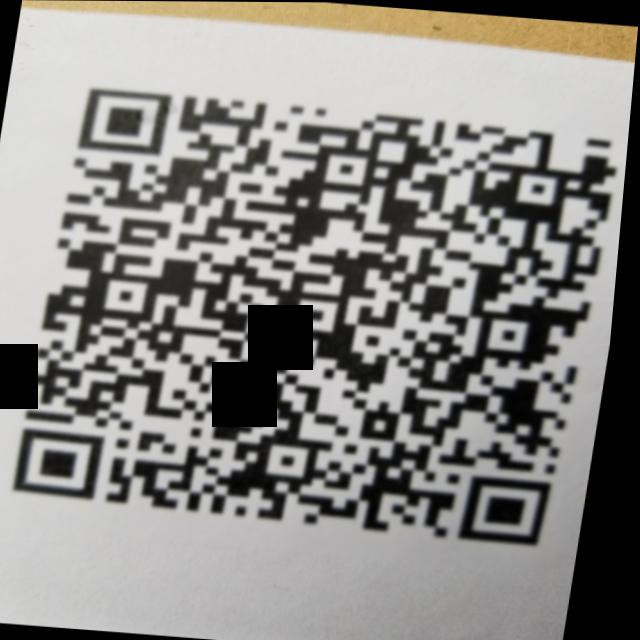QR_CODE: (0, 62, 636, 571)
